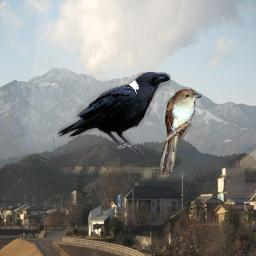Crow: (57, 72, 171, 154)
Cuckoo: (159, 88, 201, 175)
